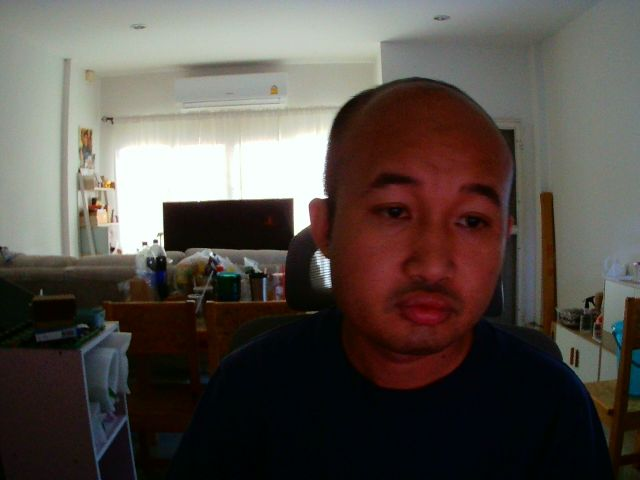face: (323, 74, 509, 359)
